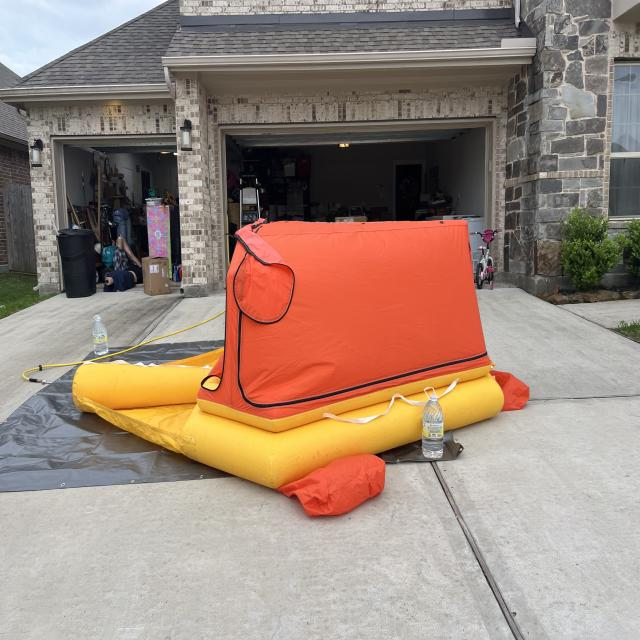Multi-person_life_raft: (72, 216, 530, 520)
